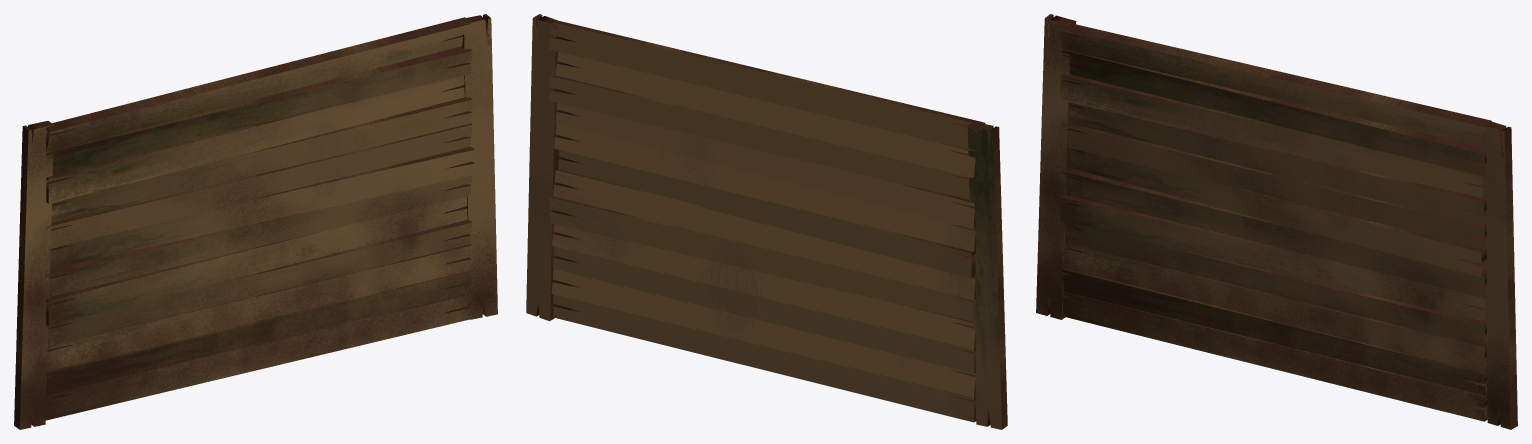
Rendered from cabin_wall_asset.glb.
3 renders of one model, left to right at view 1: azimuth 30°, elevation 25°; view 2: azimuth 150°, elevation 25°; view 3: azimuth 330°, elevation 25°, orthographic.
Parts seen in each view (by area): view 1: pCube28; view 2: pCube28; view 3: pCube28.
Part boxes in pixels (box(x1,y1,x2,y2)): pCube28: box(14, 14, 497, 429); pCube28: box(526, 14, 1007, 429); pCube28: box(1036, 14, 1517, 429).
Size of the model in its own units: 1.18 by 0.7039 by 0.0607.
Materials: 1 (1 with a texture image).
